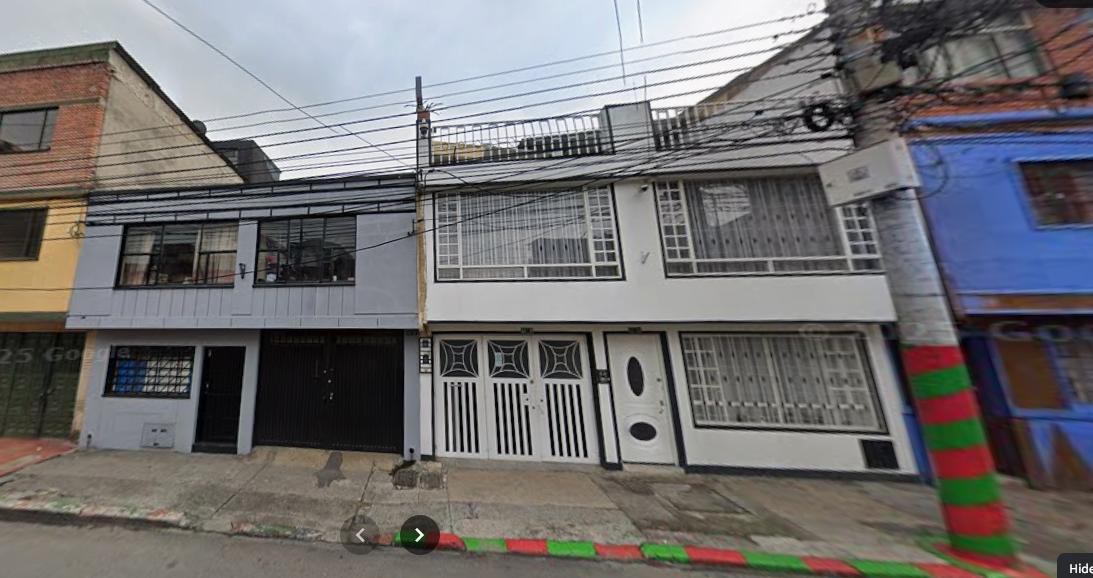casa: (414, 85, 908, 475), (60, 159, 419, 464)
poste: (821, 2, 1017, 565)
